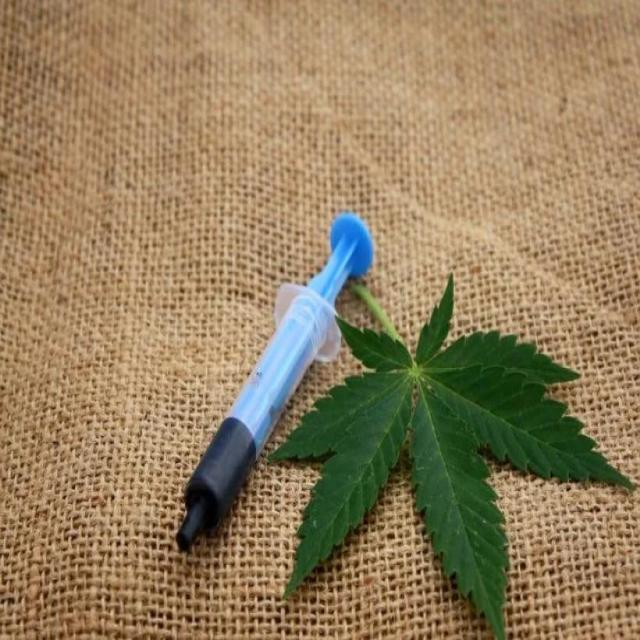cannabis: (268, 277, 633, 639)
